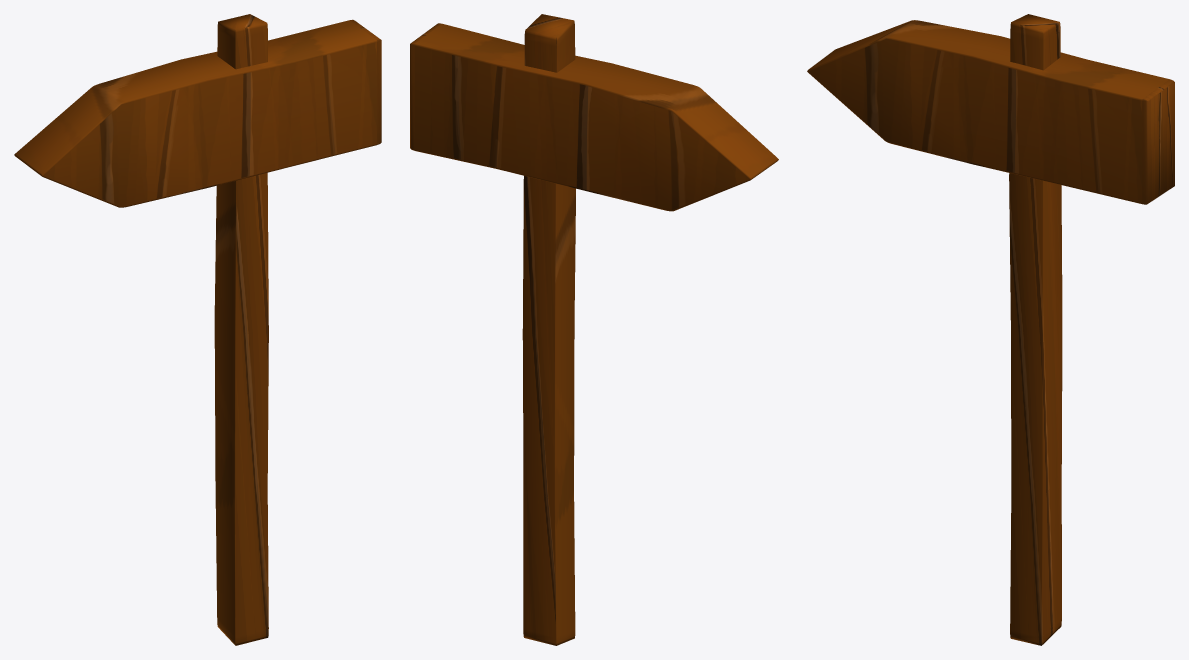
File: milestone.fbx
3 views of the same model, side by side, from view 1: azimuth 30°, elevation 25°; view 2: azimuth 150°, elevation 25°; view 3: azimuth 330°, elevation 25° (orthographic).
Visible parts, largest first — view 1: MileWoods, MileWoodsSub; view 2: MileWoods, MileWoodsSub; view 3: MileWoods, MileWoodsSub.
Part boxes in pixels (<box>): MileWoods: <box>14,19,381,207</box>; MileWoodsSub: <box>214,14,268,645</box>; MileWoods: <box>410,23,778,211</box>; MileWoodsSub: <box>522,14,575,645</box>; MileWoods: <box>807,20,1174,204</box>; MileWoodsSub: <box>1009,14,1062,645</box>.
Bounding box in the file's own units: 89.59 × 155 × 12.7.
